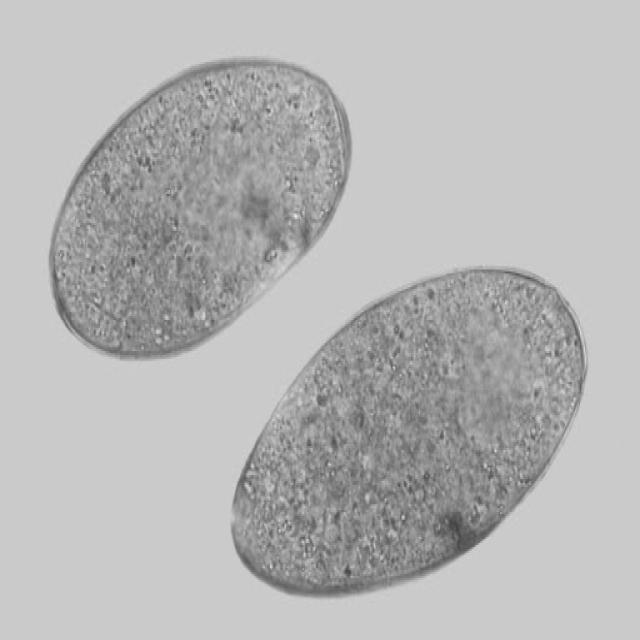Enterobius Vermicularis: (225, 260, 591, 607), (40, 51, 359, 362)
